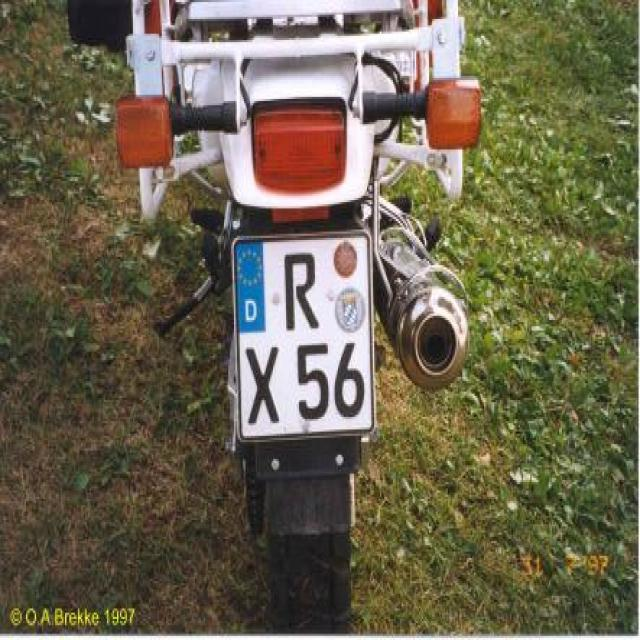license-plates: (233, 237, 373, 438)
